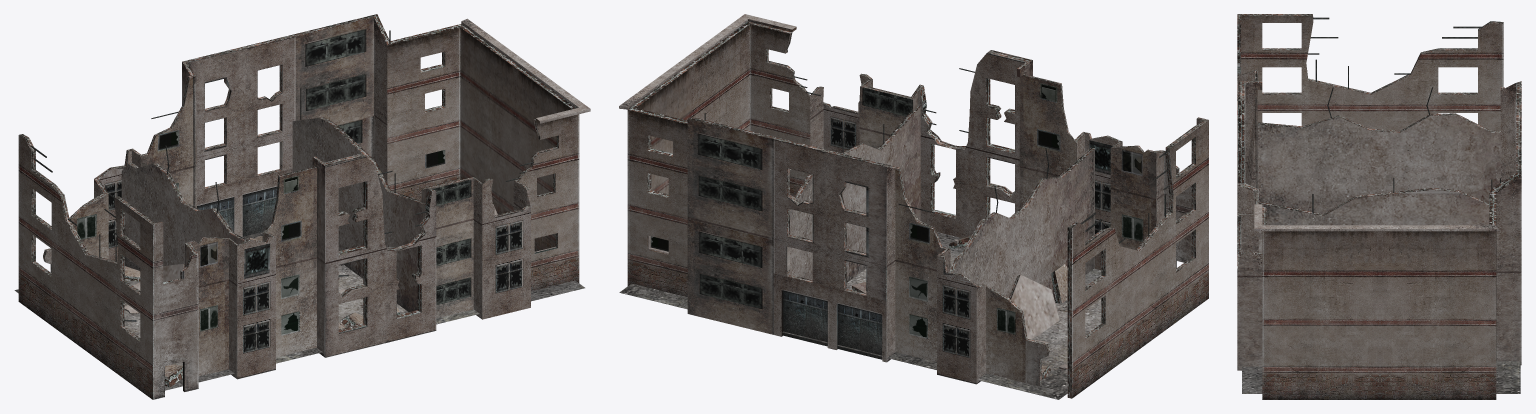
File: buildings_09_ruin.FBX
3 renders of one model, left to right at view 1: azimuth 30°, elevation 25°; view 2: azimuth 150°, elevation 25°; view 3: azimuth 270°, elevation 25°, orthographic. The views are drawn at different scales.
Visible parts, largest first — view 1: Box001; view 2: Box001; view 3: Box001.
Boxes of the visible parts, x1=… form: Box001: x1=14, y1=14, x2=590, y2=399; Box001: x1=619, y1=14, x2=1208, y2=399; Box001: x1=1237, y1=14, x2=1521, y2=399.
Bounding box in the file's own units: 3050 × 1695 × 1262.
Materials: 1 (1 with a texture image).
